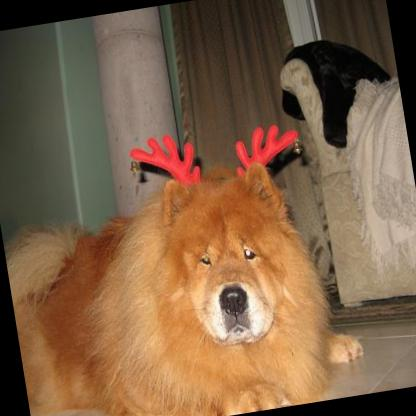chow: (0, 148, 371, 416)
